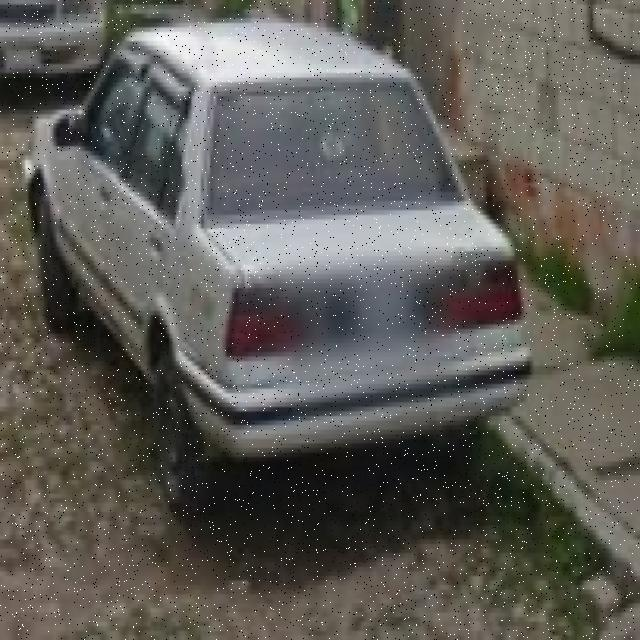cars: (22, 24, 532, 488)
